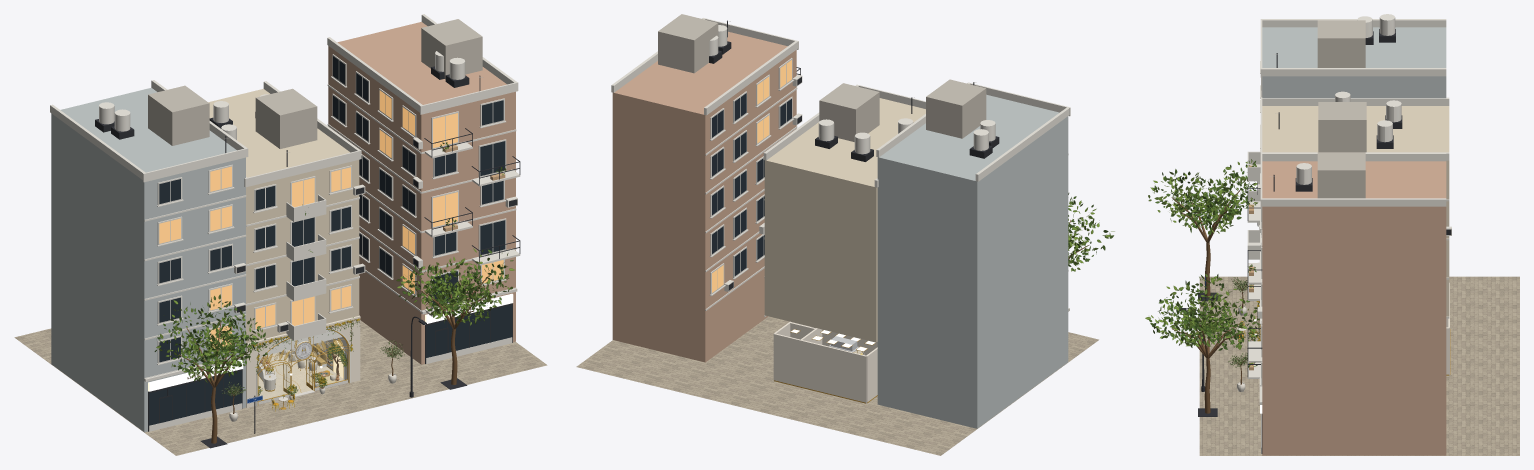
The model's file is maison-100.glb.
3 views of the same model, side by side, from view 1: azimuth 30°, elevation 25°; view 2: azimuth 150°, elevation 25°; view 3: azimuth 270°, elevation 25° (orthographic).
Parts seen in each view (by area): view 1: bw6, bwtrim, bw5, win, paving, facade_hi, bw3, win_lit_n, leaf, leaf2, iron, facade (+5 smaller); view 2: bw6, bw5, facade_hi, paving, bwtrim, bw3, plaster, win, iron, win_lit_n, leaf; view 3: bw5, paving, bwtrim, bw6, bw3, facade_hi, leaf, leaf2, iron, trunk.
Part boxes in pixels (bbox=[...]): bw6: bbox=[51, 87, 245, 432]; bwtrim: bbox=[50, 14, 520, 431]; bw5: bbox=[328, 22, 515, 364]; win: bbox=[149, 56, 512, 425]; paving: bbox=[14, 320, 547, 455]; facade_hi: bbox=[208, 89, 359, 343]; bw3: bbox=[148, 19, 482, 148]; win_lit_n: bbox=[159, 90, 503, 348]; leaf: bbox=[156, 142, 514, 395]; leaf2: bbox=[154, 142, 513, 397]; iron: bbox=[95, 66, 520, 448]; facade: bbox=[246, 315, 360, 407]; bw6: bbox=[877, 94, 1068, 428]; bw5: bbox=[612, 31, 796, 362]; facade_hi: bbox=[764, 98, 925, 342]; paving: bbox=[576, 316, 1098, 455]; bwtrim: bbox=[611, 18, 1070, 317]; bw3: bbox=[658, 14, 986, 141]; plaster: bbox=[773, 321, 877, 403]; win: bbox=[712, 93, 791, 275]; iron: bbox=[709, 20, 999, 290]; win_lit_n: bbox=[712, 60, 791, 292]; leaf: bbox=[1068, 200, 1114, 271]; bw5: bbox=[1262, 161, 1446, 455]; paving: bbox=[1199, 276, 1519, 455]; bwtrim: bbox=[1247, 14, 1451, 453]; bw6: bbox=[1262, 27, 1446, 98]; bw3: bbox=[1317, 20, 1366, 198]; facade_hi: bbox=[1262, 106, 1449, 316]; leaf: bbox=[1145, 159, 1259, 366]; leaf2: bbox=[1148, 159, 1260, 367]; iron: bbox=[1176, 29, 1451, 453]; trunk: bbox=[1171, 189, 1259, 413].
Bounding box in the file's own units: 30.66 × 22.09 × 26.49.
Materials: 69 (19 with a texture image).
